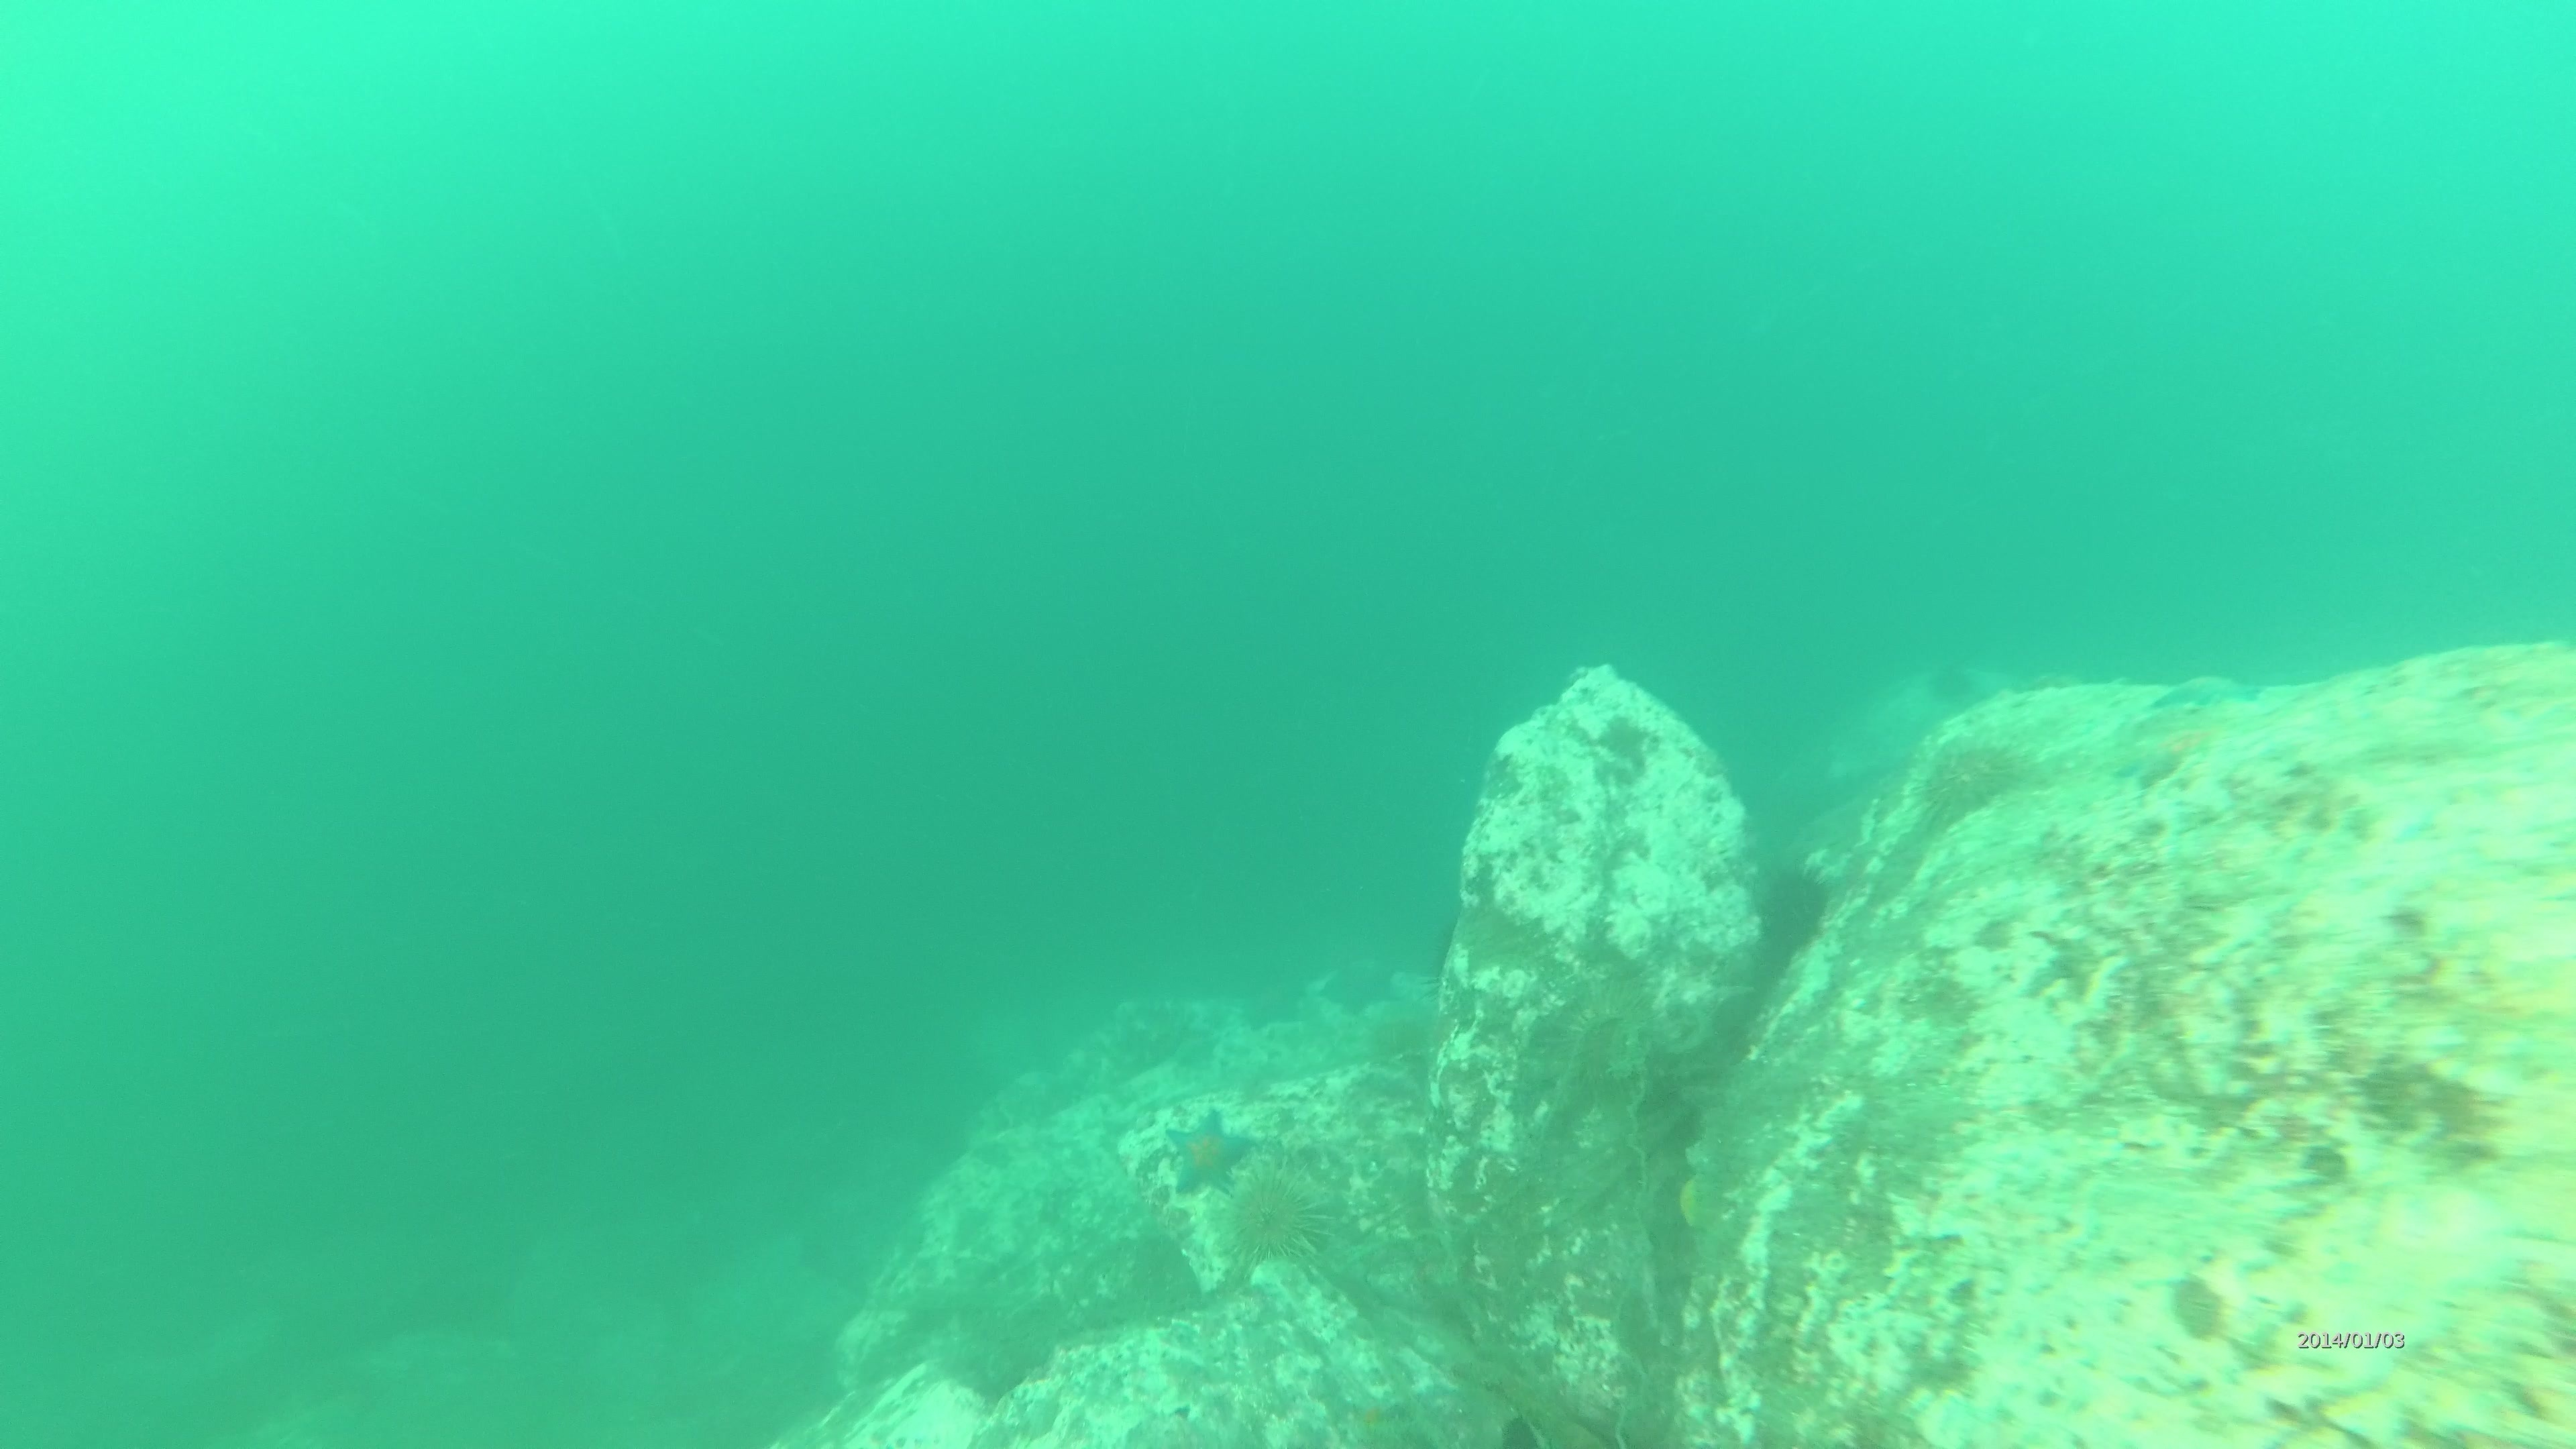echinus: (1214, 1150, 1346, 1281), (1553, 982, 1658, 1113), (1909, 727, 2031, 830), (1748, 855, 1836, 961)
starfish: (1157, 1106, 1260, 1200), (1313, 947, 1405, 1017), (2148, 669, 2258, 717), (1674, 1171, 1702, 1226)
